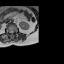CCS_normal: (11, 30, 12, 35)
LFS_stenosis: (14, 30, 15, 34)
LLS_normal: (12, 30, 13, 34)
RFS_stenosis: (8, 30, 10, 33)
RLS_normal: (10, 30, 11, 34)
